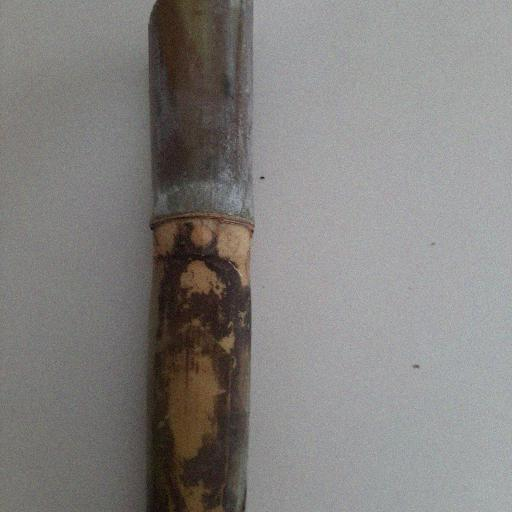Bud: (187, 225, 216, 252)
